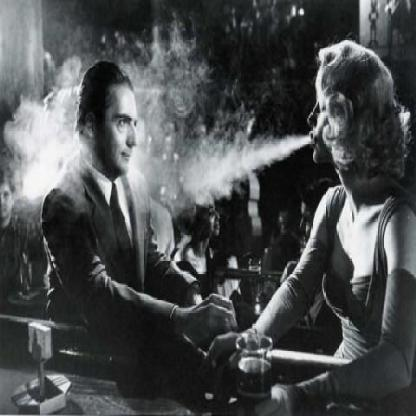smoke: (1, 48, 312, 209)
